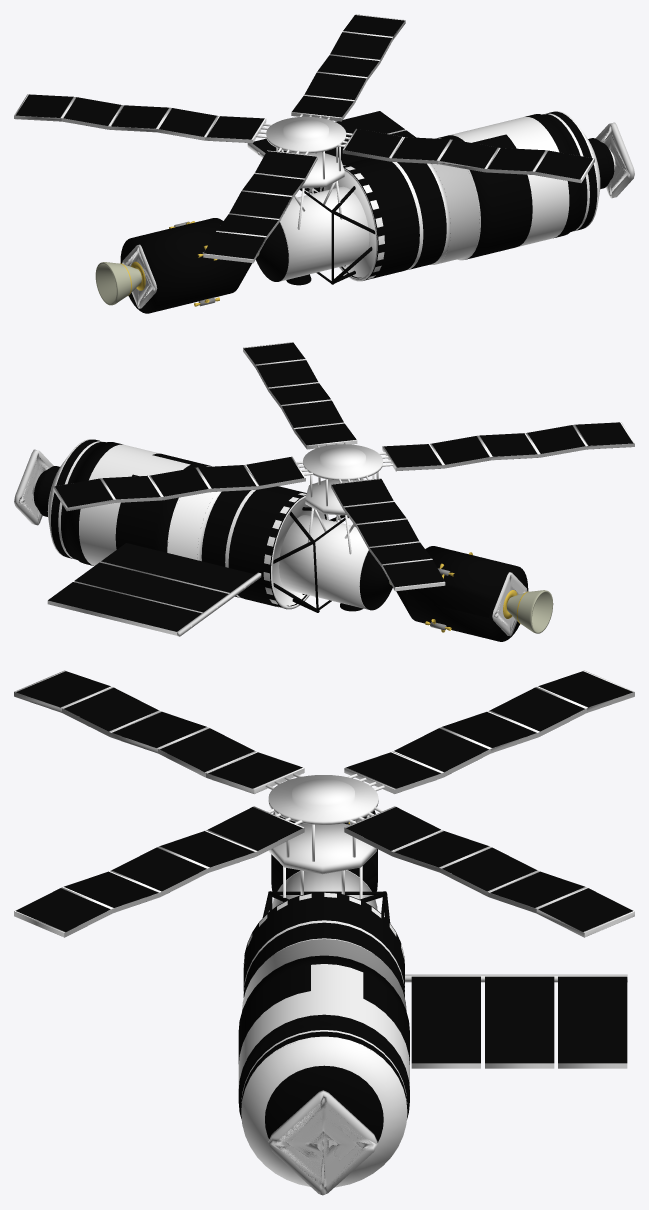
Rendered from skylab.glb.
3 renders of one model, top to bottom at view 1: azimuth 30°, elevation 25°; view 2: azimuth 150°, elevation 25°; view 3: azimuth 270°, elevation 25°, orthographic. The views are drawn at different scales.
Parts seen in each view (by area): view 1: polySurfac; view 2: polySurfac; view 3: polySurfac.
Part boxes in pixels (<box>): polySurfac: <box>14,14,634,313</box>; polySurfac: <box>14,342,634,641</box>; polySurfac: <box>14,670,634,1195</box>.
Size of the model in its own units: 38.74 by 11.78 by 29.85.
